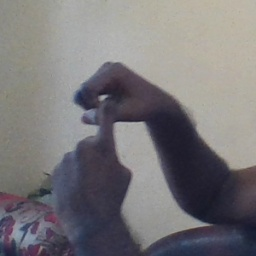Q: (44, 58, 162, 213)
